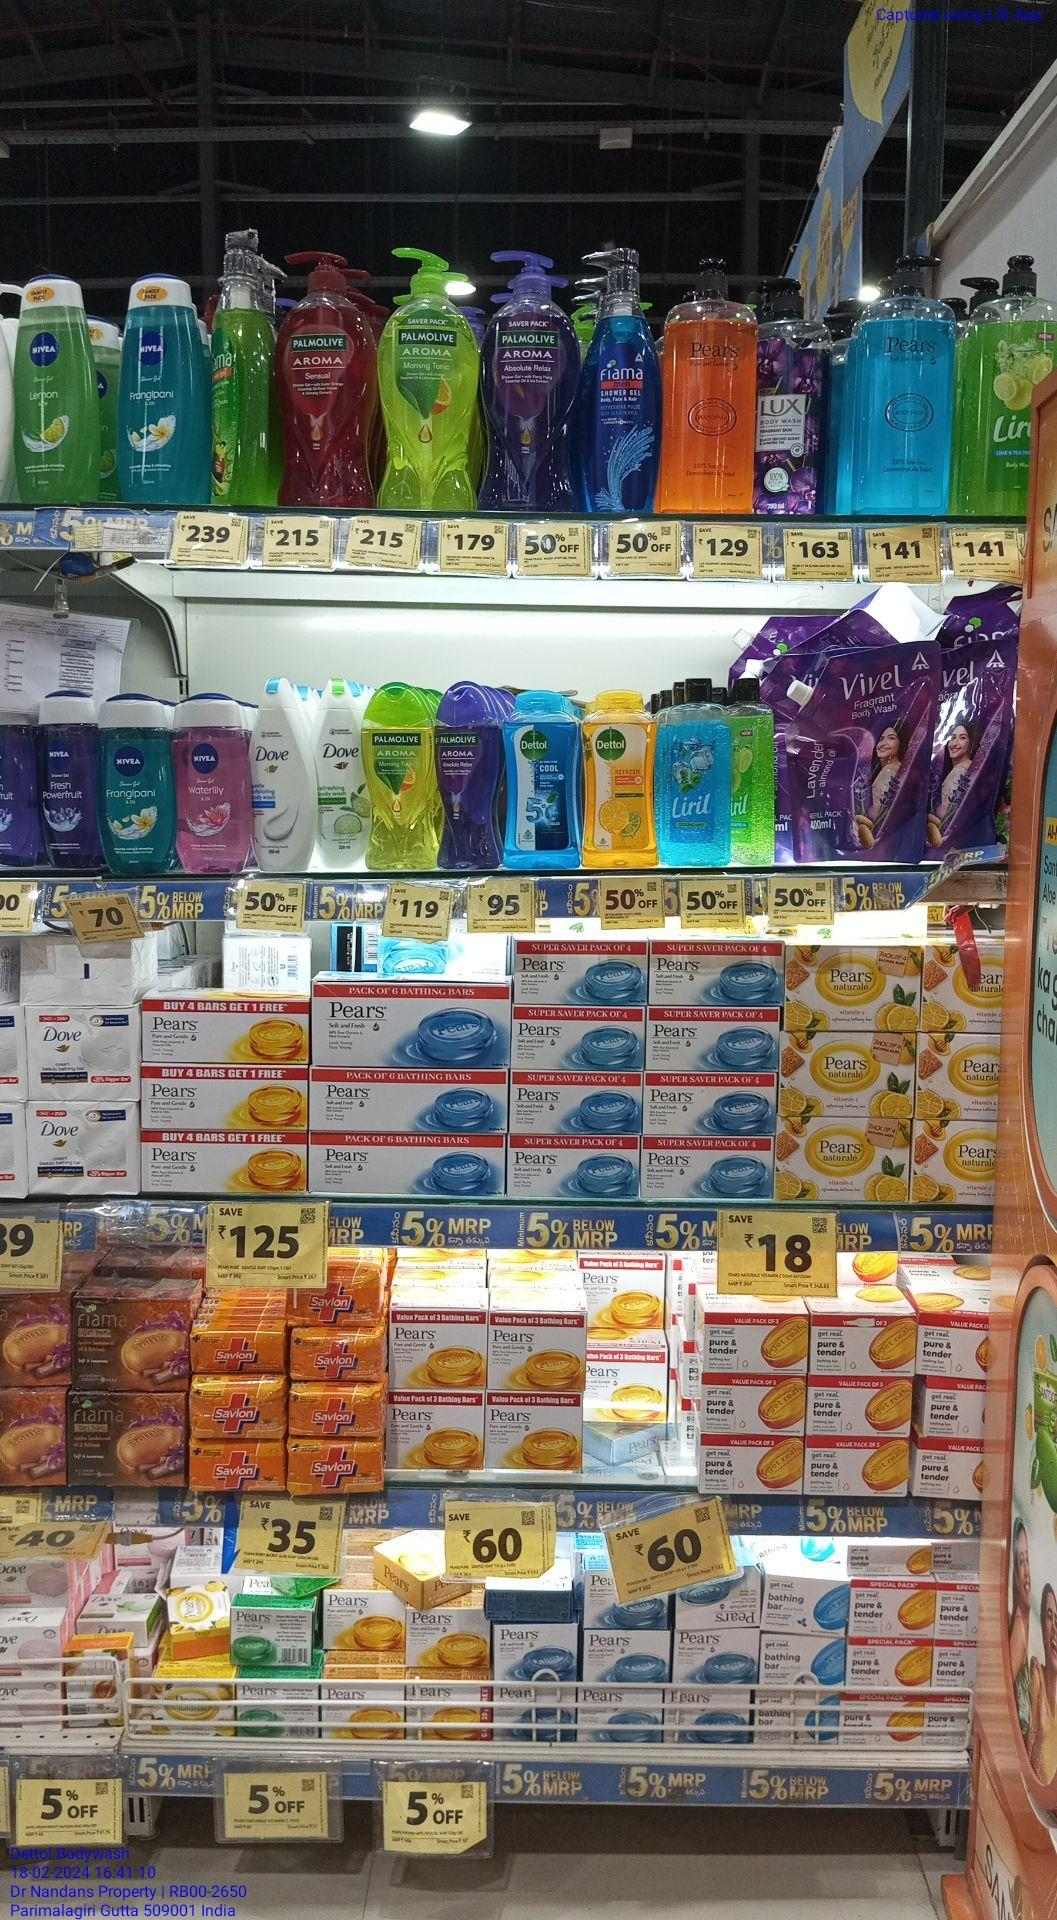Dettol_Bodywash_Cool: (501, 687, 582, 868)
Dettol_Bodywash_Refresh: (583, 687, 656, 872)
Dove_Gentle_Exfoliating_Body_Wash_250ML: (254, 677, 316, 872)
Dove_Refreshing_Body_Wash_250ML: (316, 678, 368, 872)
Liril_Cooling_Mint_Body_Wash_250ML: (656, 674, 732, 867)
Nivea_Shower_Gel_Frangipani_and_Oil_250ML: (104, 690, 174, 875)
Nivea_Shower_Gel_Fresh_Powerfruit_250ML: (42, 686, 102, 868)
Nivea_Shower_Gel_Waterlily_and_Oil_250ML: (177, 691, 251, 873)
Palmolive_Aroma_Morning_Tonic_Shower_Gel_250ML: (370, 677, 435, 873)
Palmolive_Aroma_Relax_250ML: (437, 679, 500, 870)
